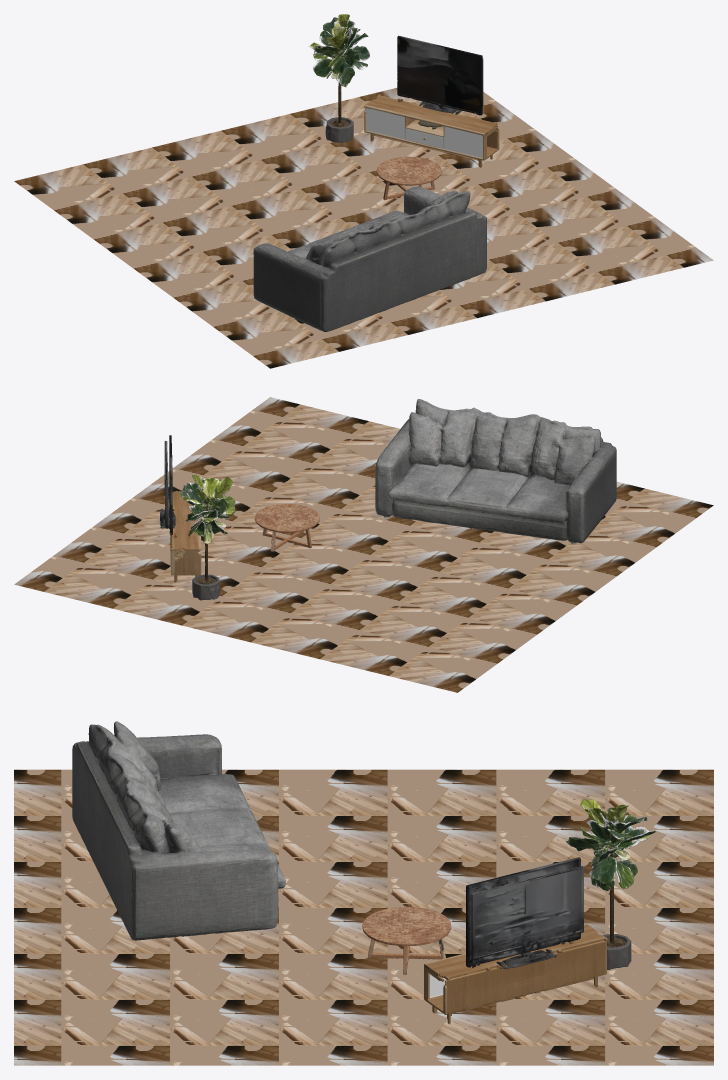
Rendered from room__n25.glb.
The picture shows the model from 3 angles, top to bottom: view 1: azimuth 30°, elevation 25°; view 2: azimuth 150°, elevation 25°; view 3: azimuth 270°, elevation 25°; orthographic projection. The views are drawn at different scales.
Visible parts, largest first — view 1: floor, object_000_0, object_005_0, object_002_0, object_003_0, object_001_0; view 2: floor, object_000_0, object_003_0, object_005_0, object_001_0, object_002_0; view 3: floor, object_000_0, object_002_0, object_005_0, object_003_0, object_001_0.
Boxes of the visible parts, x1,y1,x2,y2 form: floor: (14, 88, 713, 368); object_000_0: (253, 186, 486, 331); object_005_0: (364, 94, 499, 167); object_002_0: (397, 35, 483, 115); object_003_0: (309, 14, 369, 142); object_001_0: (376, 156, 441, 200); floor: (14, 397, 713, 692); object_000_0: (375, 399, 616, 543); object_003_0: (179, 475, 235, 600); object_005_0: (168, 490, 201, 582); object_001_0: (254, 504, 319, 551); object_002_0: (160, 435, 175, 534); floor: (14, 769, 713, 1065); object_000_0: (72, 721, 285, 940); object_002_0: (466, 857, 583, 969); object_005_0: (424, 923, 607, 1023); object_003_0: (566, 799, 655, 969); object_001_0: (362, 906, 451, 974).
Bounding box in the file's own units: 6.44 × 1.88 × 6.44.
Materials: 7 (7 with a texture image).
